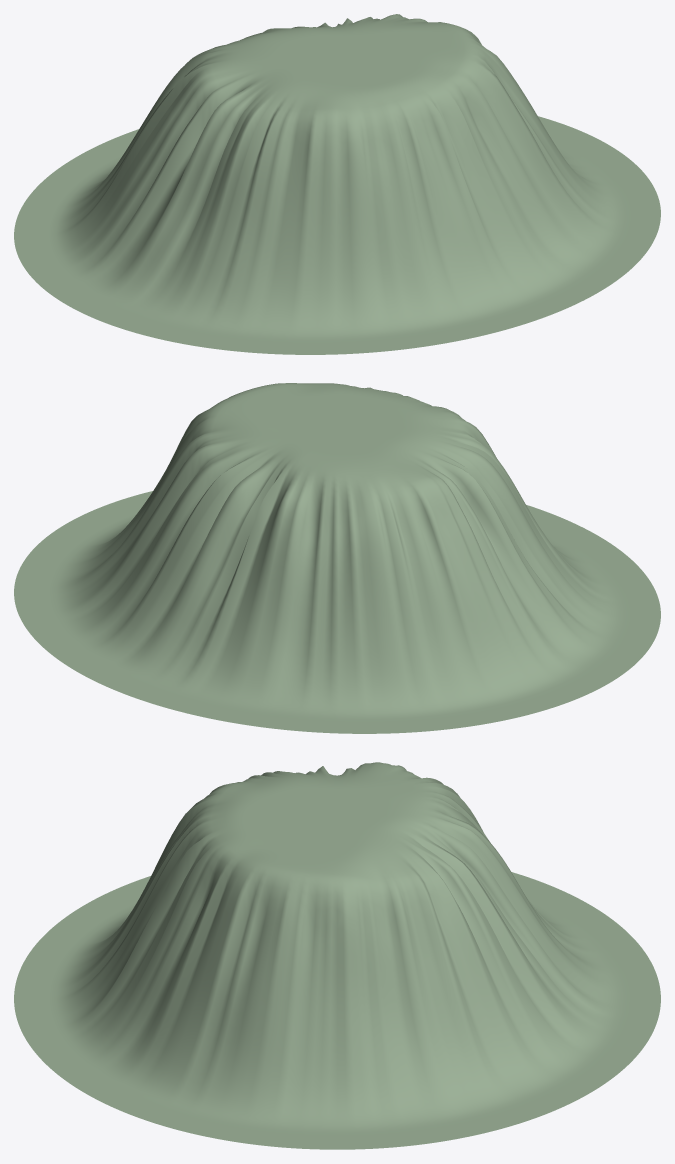
Rendered from lake_hill.glb.
3 views of the same model, one above another, from view 1: azimuth 30°, elevation 25°; view 2: azimuth 150°, elevation 25°; view 3: azimuth 270°, elevation 25° (orthographic). The views are drawn at different scales.
Visible parts, largest first — view 1: lake_hill; view 2: lake_hill; view 3: lake_hill.
Boxes of the visible parts, box(x1,y1,x2,y2) form: lake_hill: box(14, 14, 660, 354); lake_hill: box(14, 383, 660, 733); lake_hill: box(14, 762, 660, 1149).
Bounding box in the file's own units: 172 × 49 × 156.
